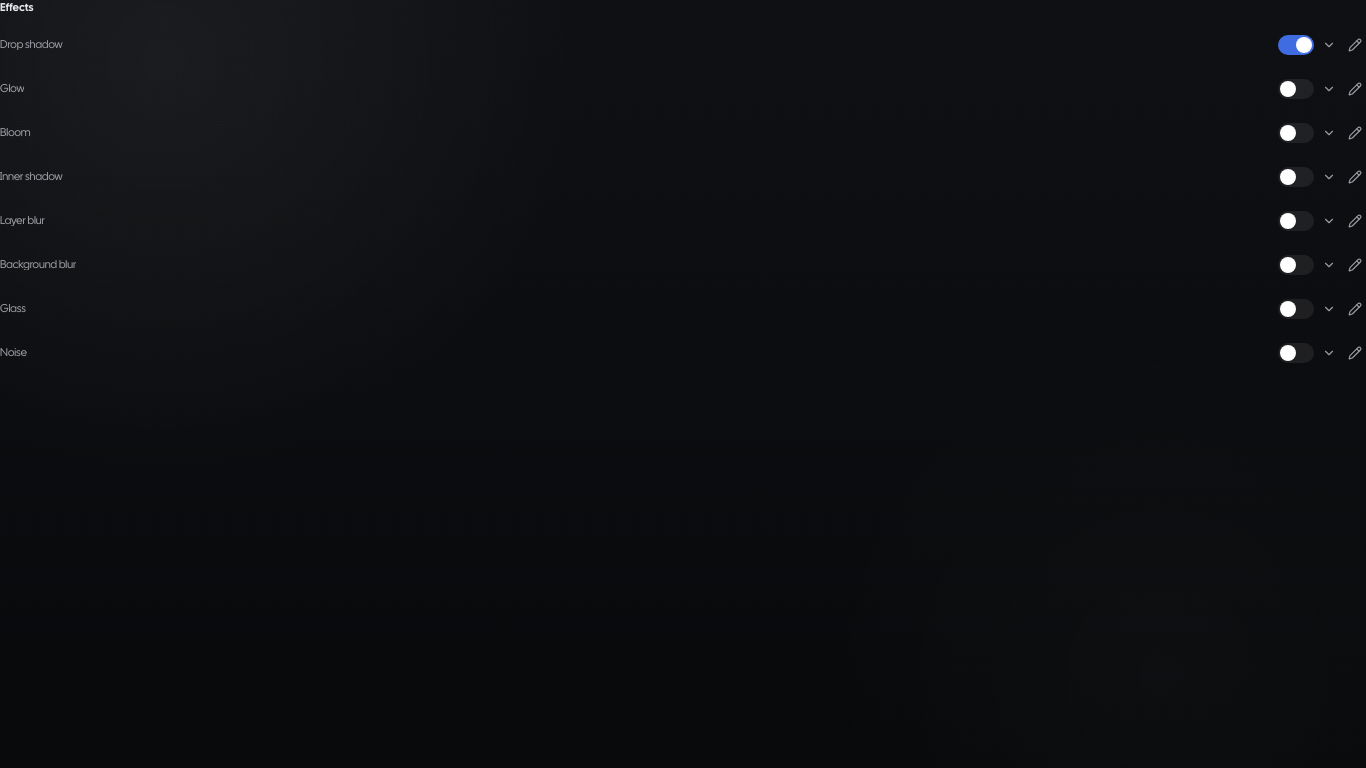
Test case: Effects — spread (2.0) e paridade modal ↔ sidebar › modal Drop abre no valor da sidebar: legado sem spread mostra 0
Click the button named "Edit Drop shadow" at (1355, 44), box [1344,34,1365,56]
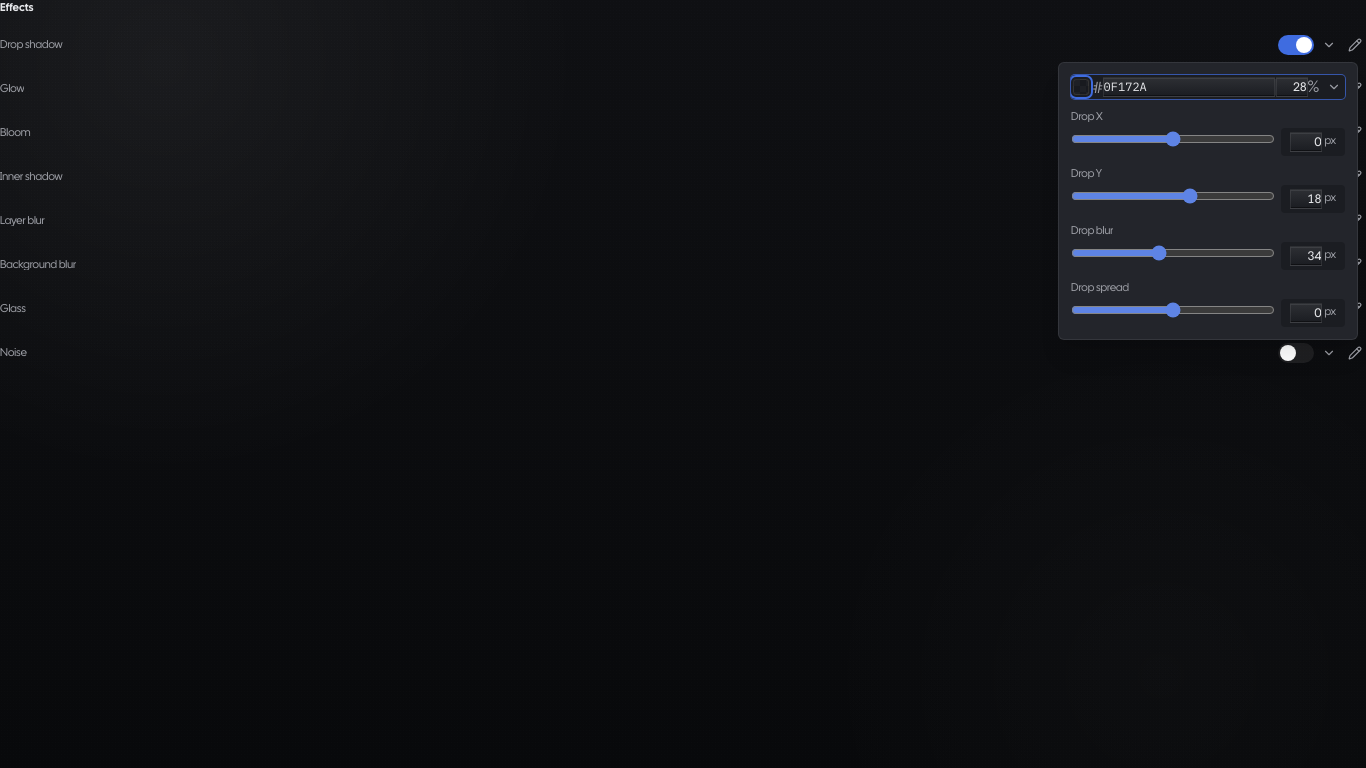
expect the slider named "Drop spread" holds "0": met, box [1071,302,1275,318]
